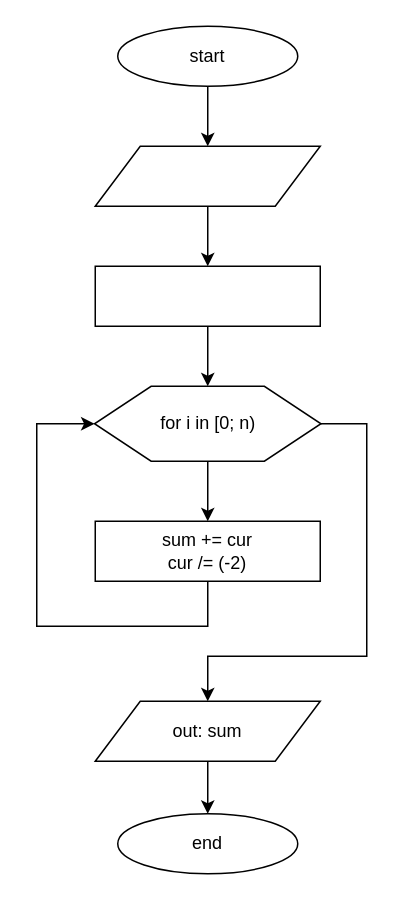
Image size: 405x900. Some labels were removed from this diagram. The centre of each missing label's shape, as x and y in pixels:
"in: n" belongs at (207,175).
"sum = 0 cur = 1" belongs at (207,295).
